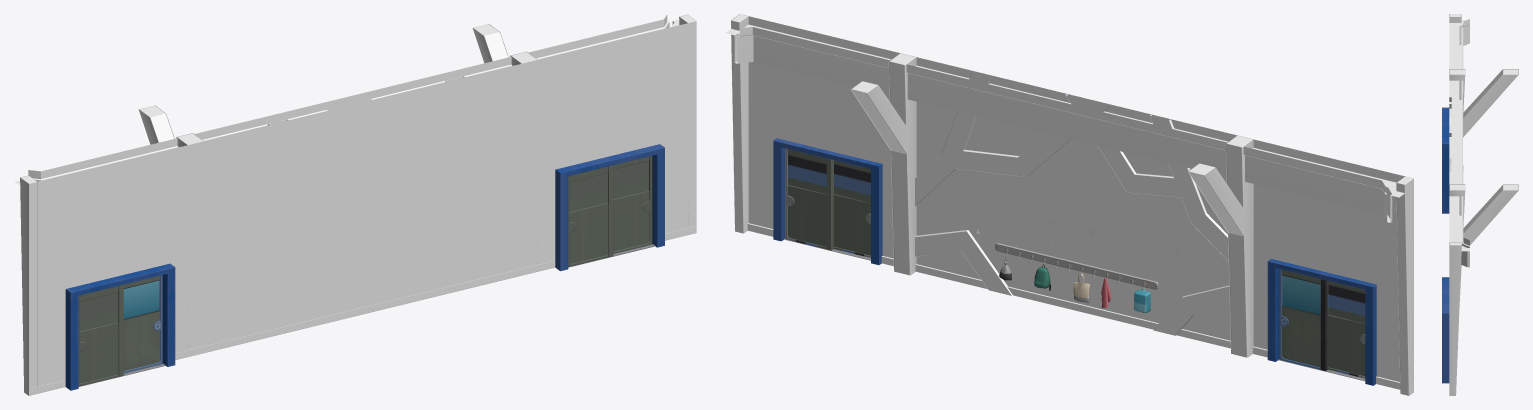
Rendered from a_sch_2_class2_hallwaywall01.gltf.
The picture shows the model from 3 angles, left to right: view 1: azimuth 30°, elevation 25°; view 2: azimuth 150°, elevation 25°; view 3: azimuth 270°, elevation 25°; orthographic projection. The views are drawn at different scales.
Visible parts, largest first — view 1: um_a_sch_2_class2_hallwaywall01_model_a_sch_2_class2_hallway (×6); view 2: um_a_sch_2_class2_hallwaywall01_model_a_sch_2_class2_hallway (×11); view 3: um_a_sch_2_class2_hallwaywall01_model_a_sch_2_class2_hallway (×5).
Part boxes in pixels (x1,y1,x2,y2): um_a_sch_2_class2_hallwaywall01_model_a_sch_2_class2_hallway (×6): (20,14,696,395); um_a_sch_2_class2_hallwaywall01_model_a_sch_2_class2_hallway (×11): (725,14,1413,395); um_a_sch_2_class2_hallwaywall01_model_a_sch_2_class2_hallway (×5): (1442,14,1518,395).
Bounding box in the file's own units: 15 × 4.55 × 2.1.
11 materials, 3 textured.
